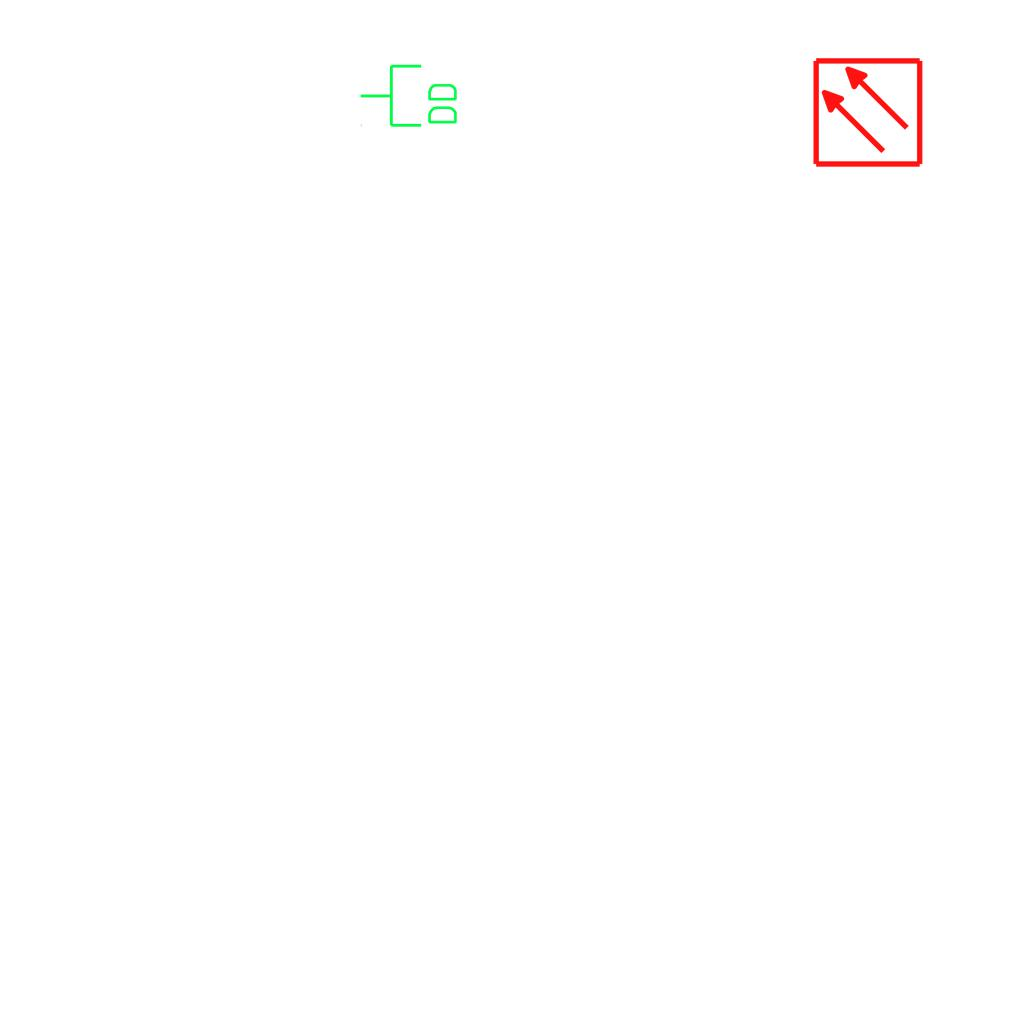Datenanschluss_zweifach: (358, 62, 461, 131)
RMO_Rauchmelder_optischer: (811, 56, 924, 169)
